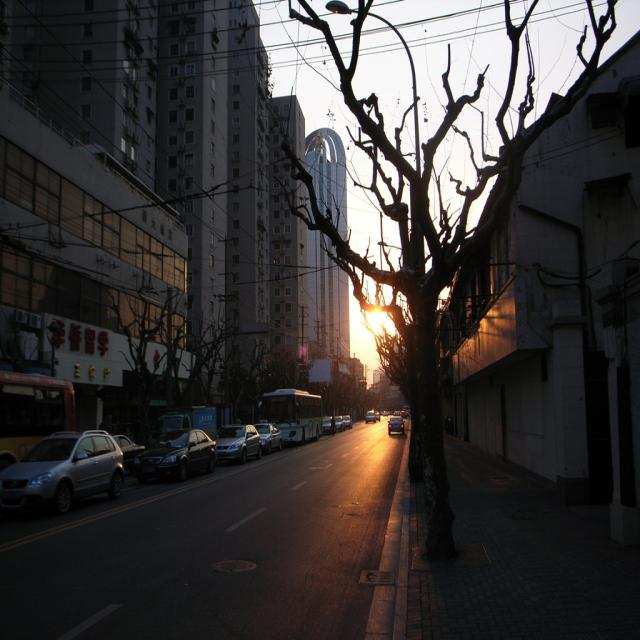car: (0, 426, 125, 512), (134, 422, 220, 481), (214, 421, 265, 460), (387, 408, 406, 434)
